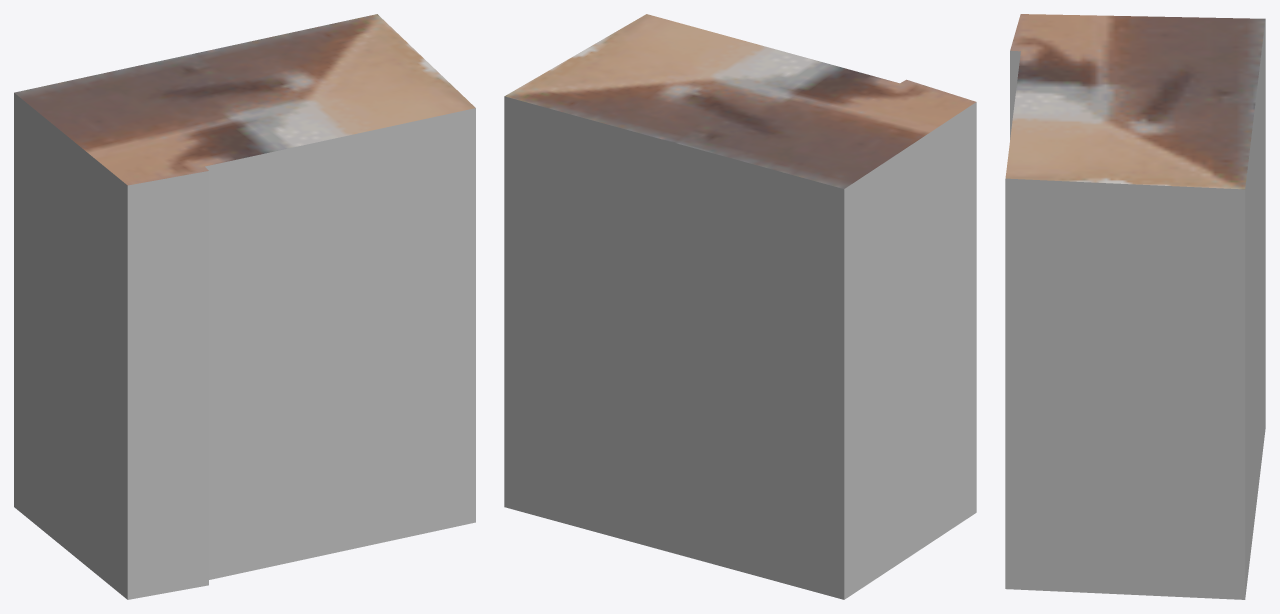
File: DEBW_0010007Txhg.gltf
3 views of the same model, side by side, from view 1: azimuth 30°, elevation 25°; view 2: azimuth 150°, elevation 25°; view 3: azimuth 270°, elevation 25° (orthographic).
Visible parts, largest first — view 1: Z_UP; view 2: Z_UP; view 3: Z_UP.
Part boxes in pixels (x1,y1,x2,y2): Z_UP: (14,14,475,599); Z_UP: (504,14,976,599); Z_UP: (1005,14,1265,599).
Size of the model in its own units: 15.33 by 16.72 by 9.6.
2 materials, 1 textured.
